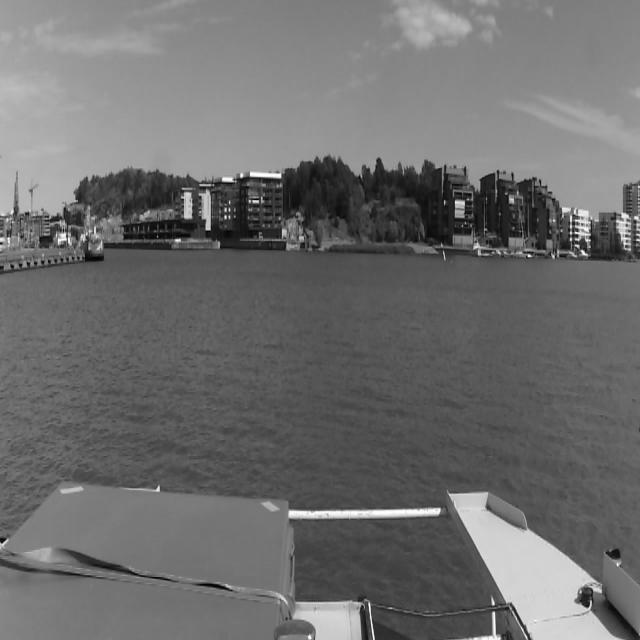ship: (87, 236, 105, 263), (472, 244, 480, 255)
